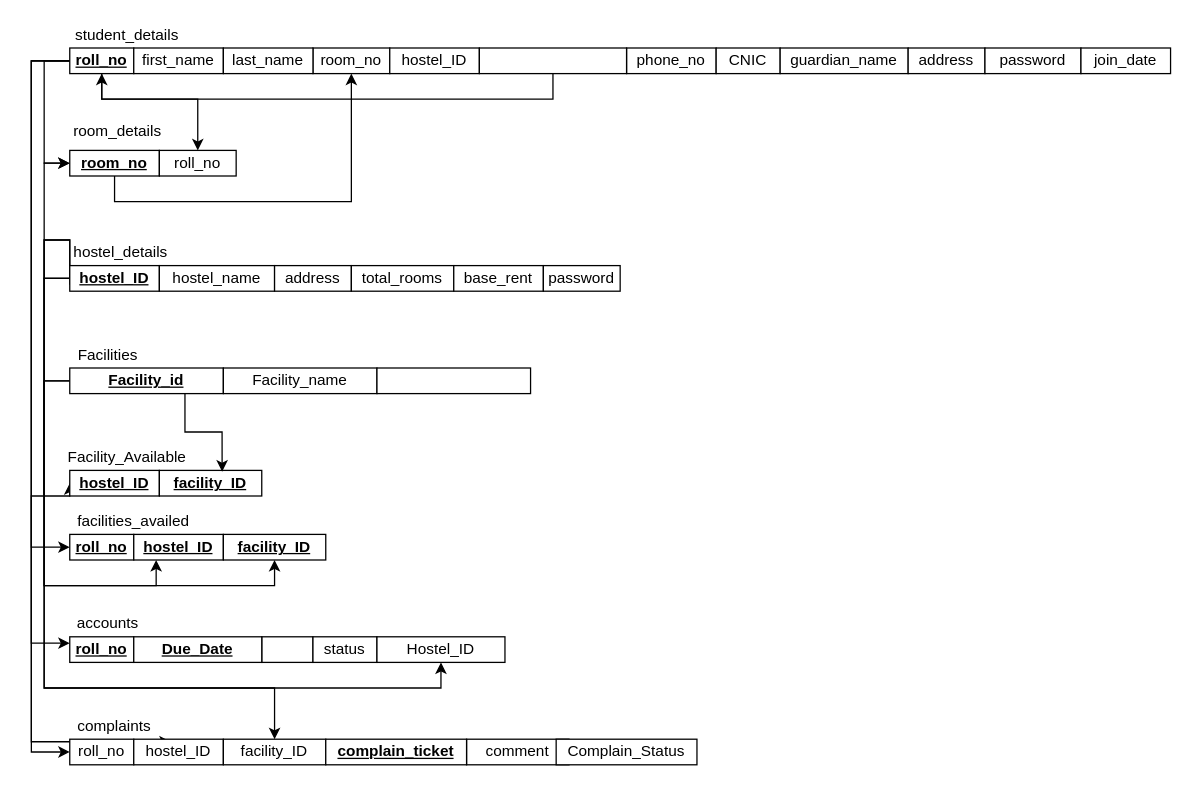
This 1193x787 diagram has some shape labels left out. The centre of each missing label's shape, as x and y in pixels:
"Facility_cost" belongs at [453,380].
"rent" belongs at [286,649].
"student_rep_roll_no" belongs at [552,60].
